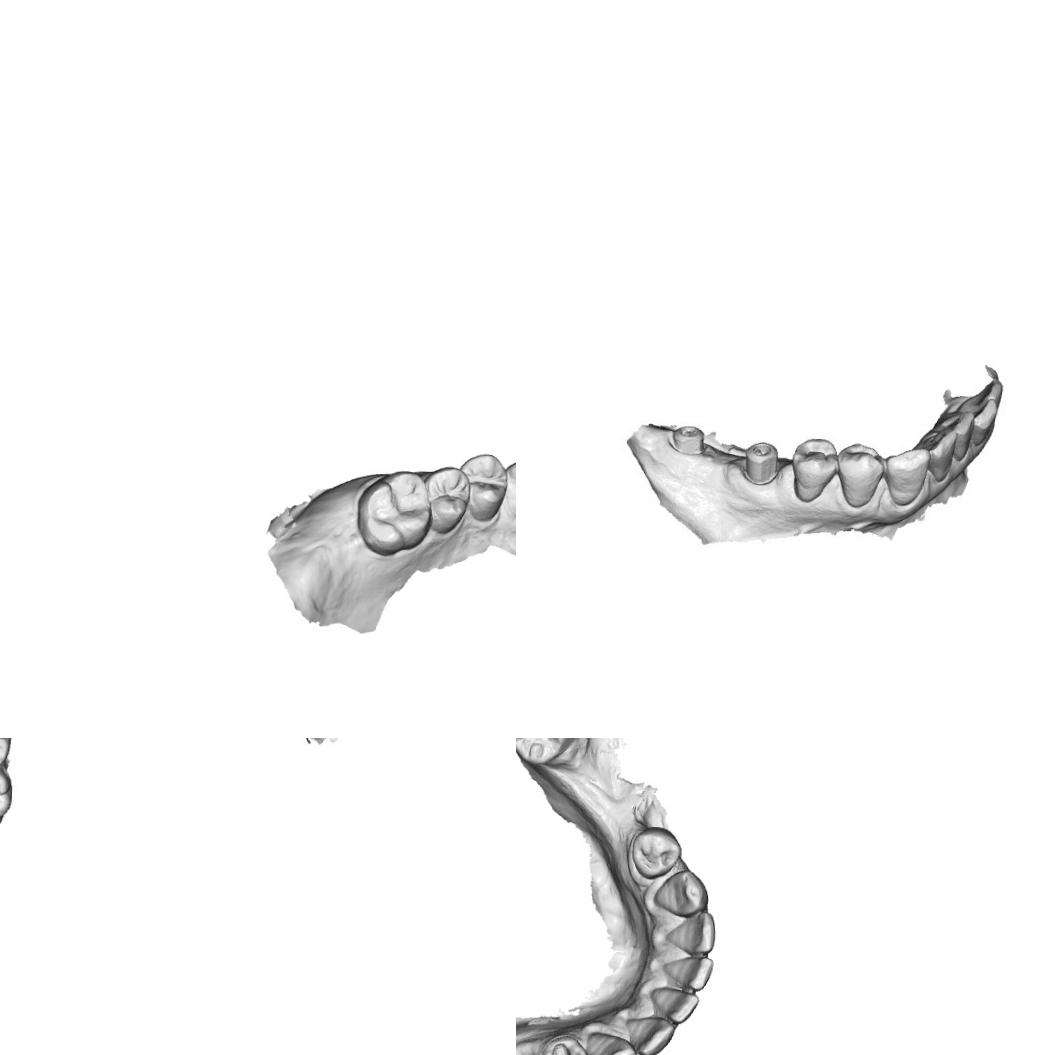canine: (882, 444, 931, 507), (651, 868, 710, 920), (585, 1029, 637, 1055), (501, 453, 516, 521)
implant: (740, 439, 780, 487), (666, 420, 706, 459)
incisor: (664, 909, 717, 958), (623, 1013, 677, 1055), (658, 953, 714, 992), (650, 985, 700, 1025), (926, 426, 959, 484), (967, 396, 1000, 452), (942, 407, 975, 461), (958, 377, 1006, 413)
molar: (354, 468, 435, 558), (516, 738, 581, 768), (0, 767, 15, 826)
premolar: (456, 450, 510, 524), (786, 433, 839, 504), (833, 440, 886, 508), (424, 464, 471, 536), (628, 824, 684, 882), (537, 1033, 591, 1055)
